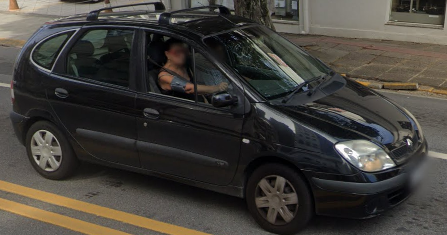car: (10, 10, 428, 235)
